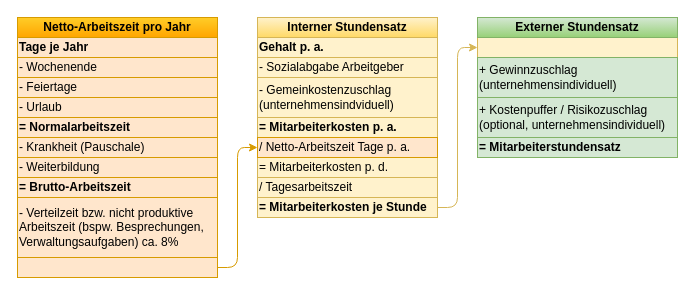
The diagram is 695 pixels wide and 295 high, and some of its shapes have lost their labels. The box of each missing label's shape, as (x1, y1, x2, y2) in pixels:
= Netto-Arbeitszeit: (16, 256, 218, 278)
Mitarbeiterkosten je Stunde: (476, 36, 678, 58)
